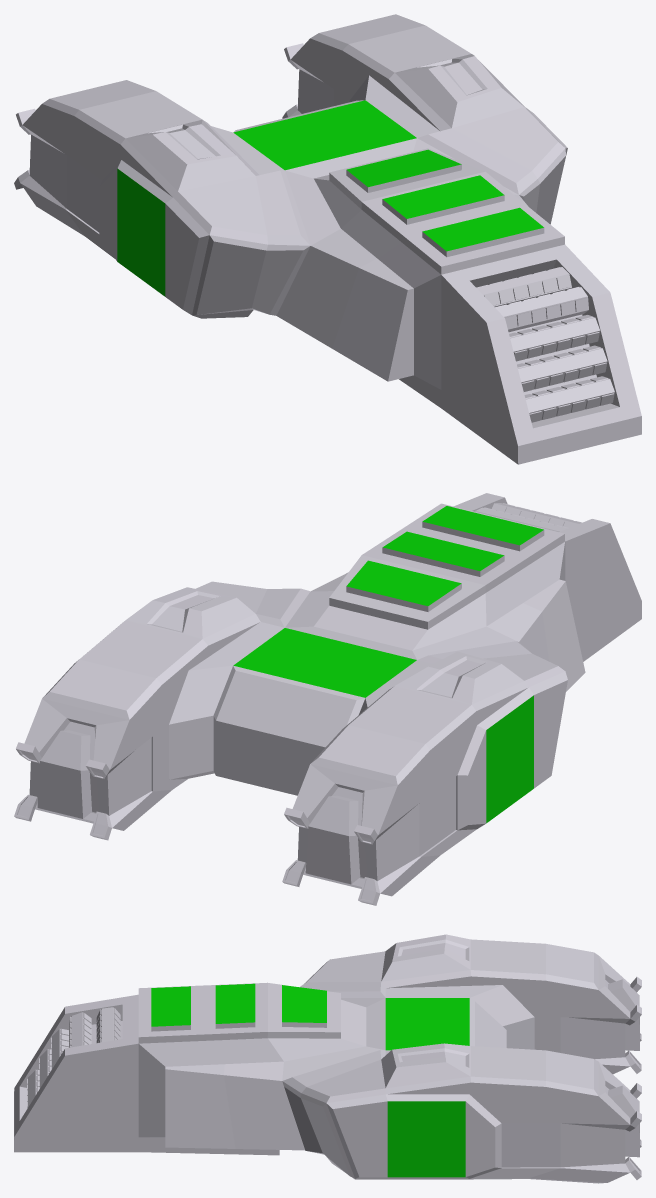
The model's file is Horns.fbx.
3 renders of one model, top to bottom at view 1: azimuth 30°, elevation 25°; view 2: azimuth 150°, elevation 25°; view 3: azimuth 270°, elevation 25°, orthographic. The views are drawn at different scales.
Visible parts, largest first — view 1: Horns; view 2: Horns; view 3: Horns.
Part boxes in pixels (x1=…): Horns: x1=14, y1=14, x2=641, y2=464; Horns: x1=14, y1=493, x2=641, y2=905; Horns: x1=14, y1=934, x2=641, y2=1183.
Bounding box in the file's own units: 3.61 × 1.53 × 6.57.
